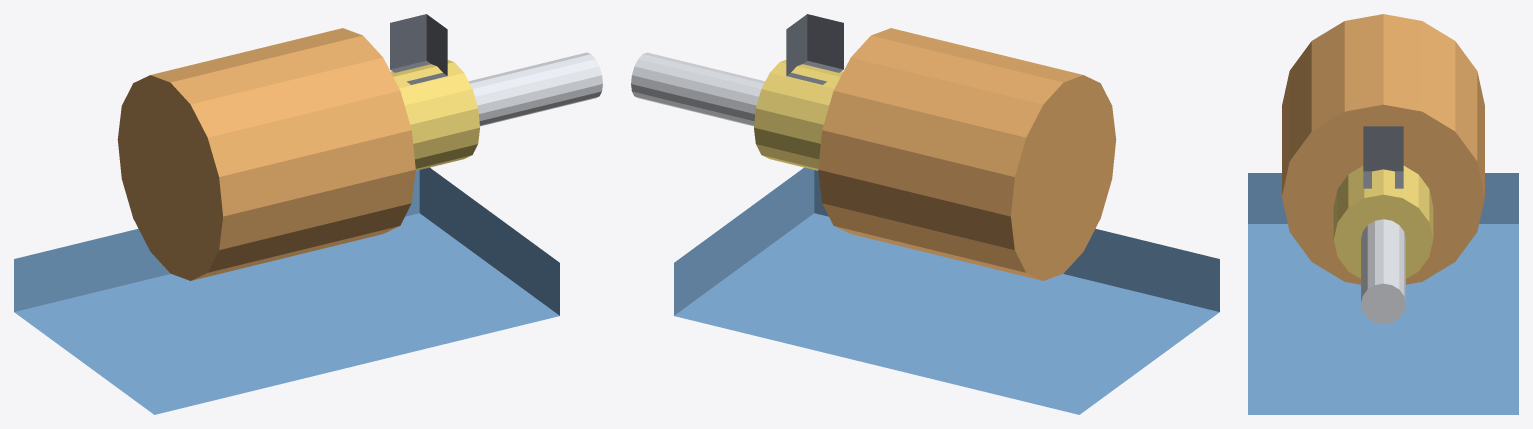
File: dc_motor.glb
3 views of the same model, side by side, from view 1: azimuth 30°, elevation 25°; view 2: azimuth 150°, elevation 25°; view 3: azimuth 270°, elevation 25° (orthographic). The views are drawn at different scales.
Visible parts, largest first — view 1: Stator_Frame, Rotor_Coil, Commutator, Output_Shaft, Carbon_Brush; view 2: Stator_Frame, Rotor_Coil, Commutator, Output_Shaft, Carbon_Brush; view 3: Stator_Frame, Rotor_Coil, Commutator, Output_Shaft, Carbon_Brush.
Boxes of the visible parts, x1,y1,x2,y2 form: Stator_Frame: (14, 167, 559, 414); Rotor_Coil: (117, 28, 415, 280); Commutator: (391, 60, 479, 170); Output_Shaft: (469, 52, 602, 126); Carbon_Brush: (390, 14, 447, 84); Stator_Frame: (674, 167, 1219, 414); Rotor_Coil: (818, 28, 1116, 280); Commutator: (754, 60, 842, 170); Output_Shaft: (631, 52, 764, 126); Carbon_Brush: (786, 14, 843, 84); Stator_Frame: (1248, 173, 1518, 414); Rotor_Coil: (1282, 14, 1484, 284); Commutator: (1333, 165, 1433, 278); Output_Shaft: (1361, 219, 1405, 324); Carbon_Brush: (1363, 126, 1403, 188).
Size of the model in its own units: 2.5 by 1.23 by 1.2.
